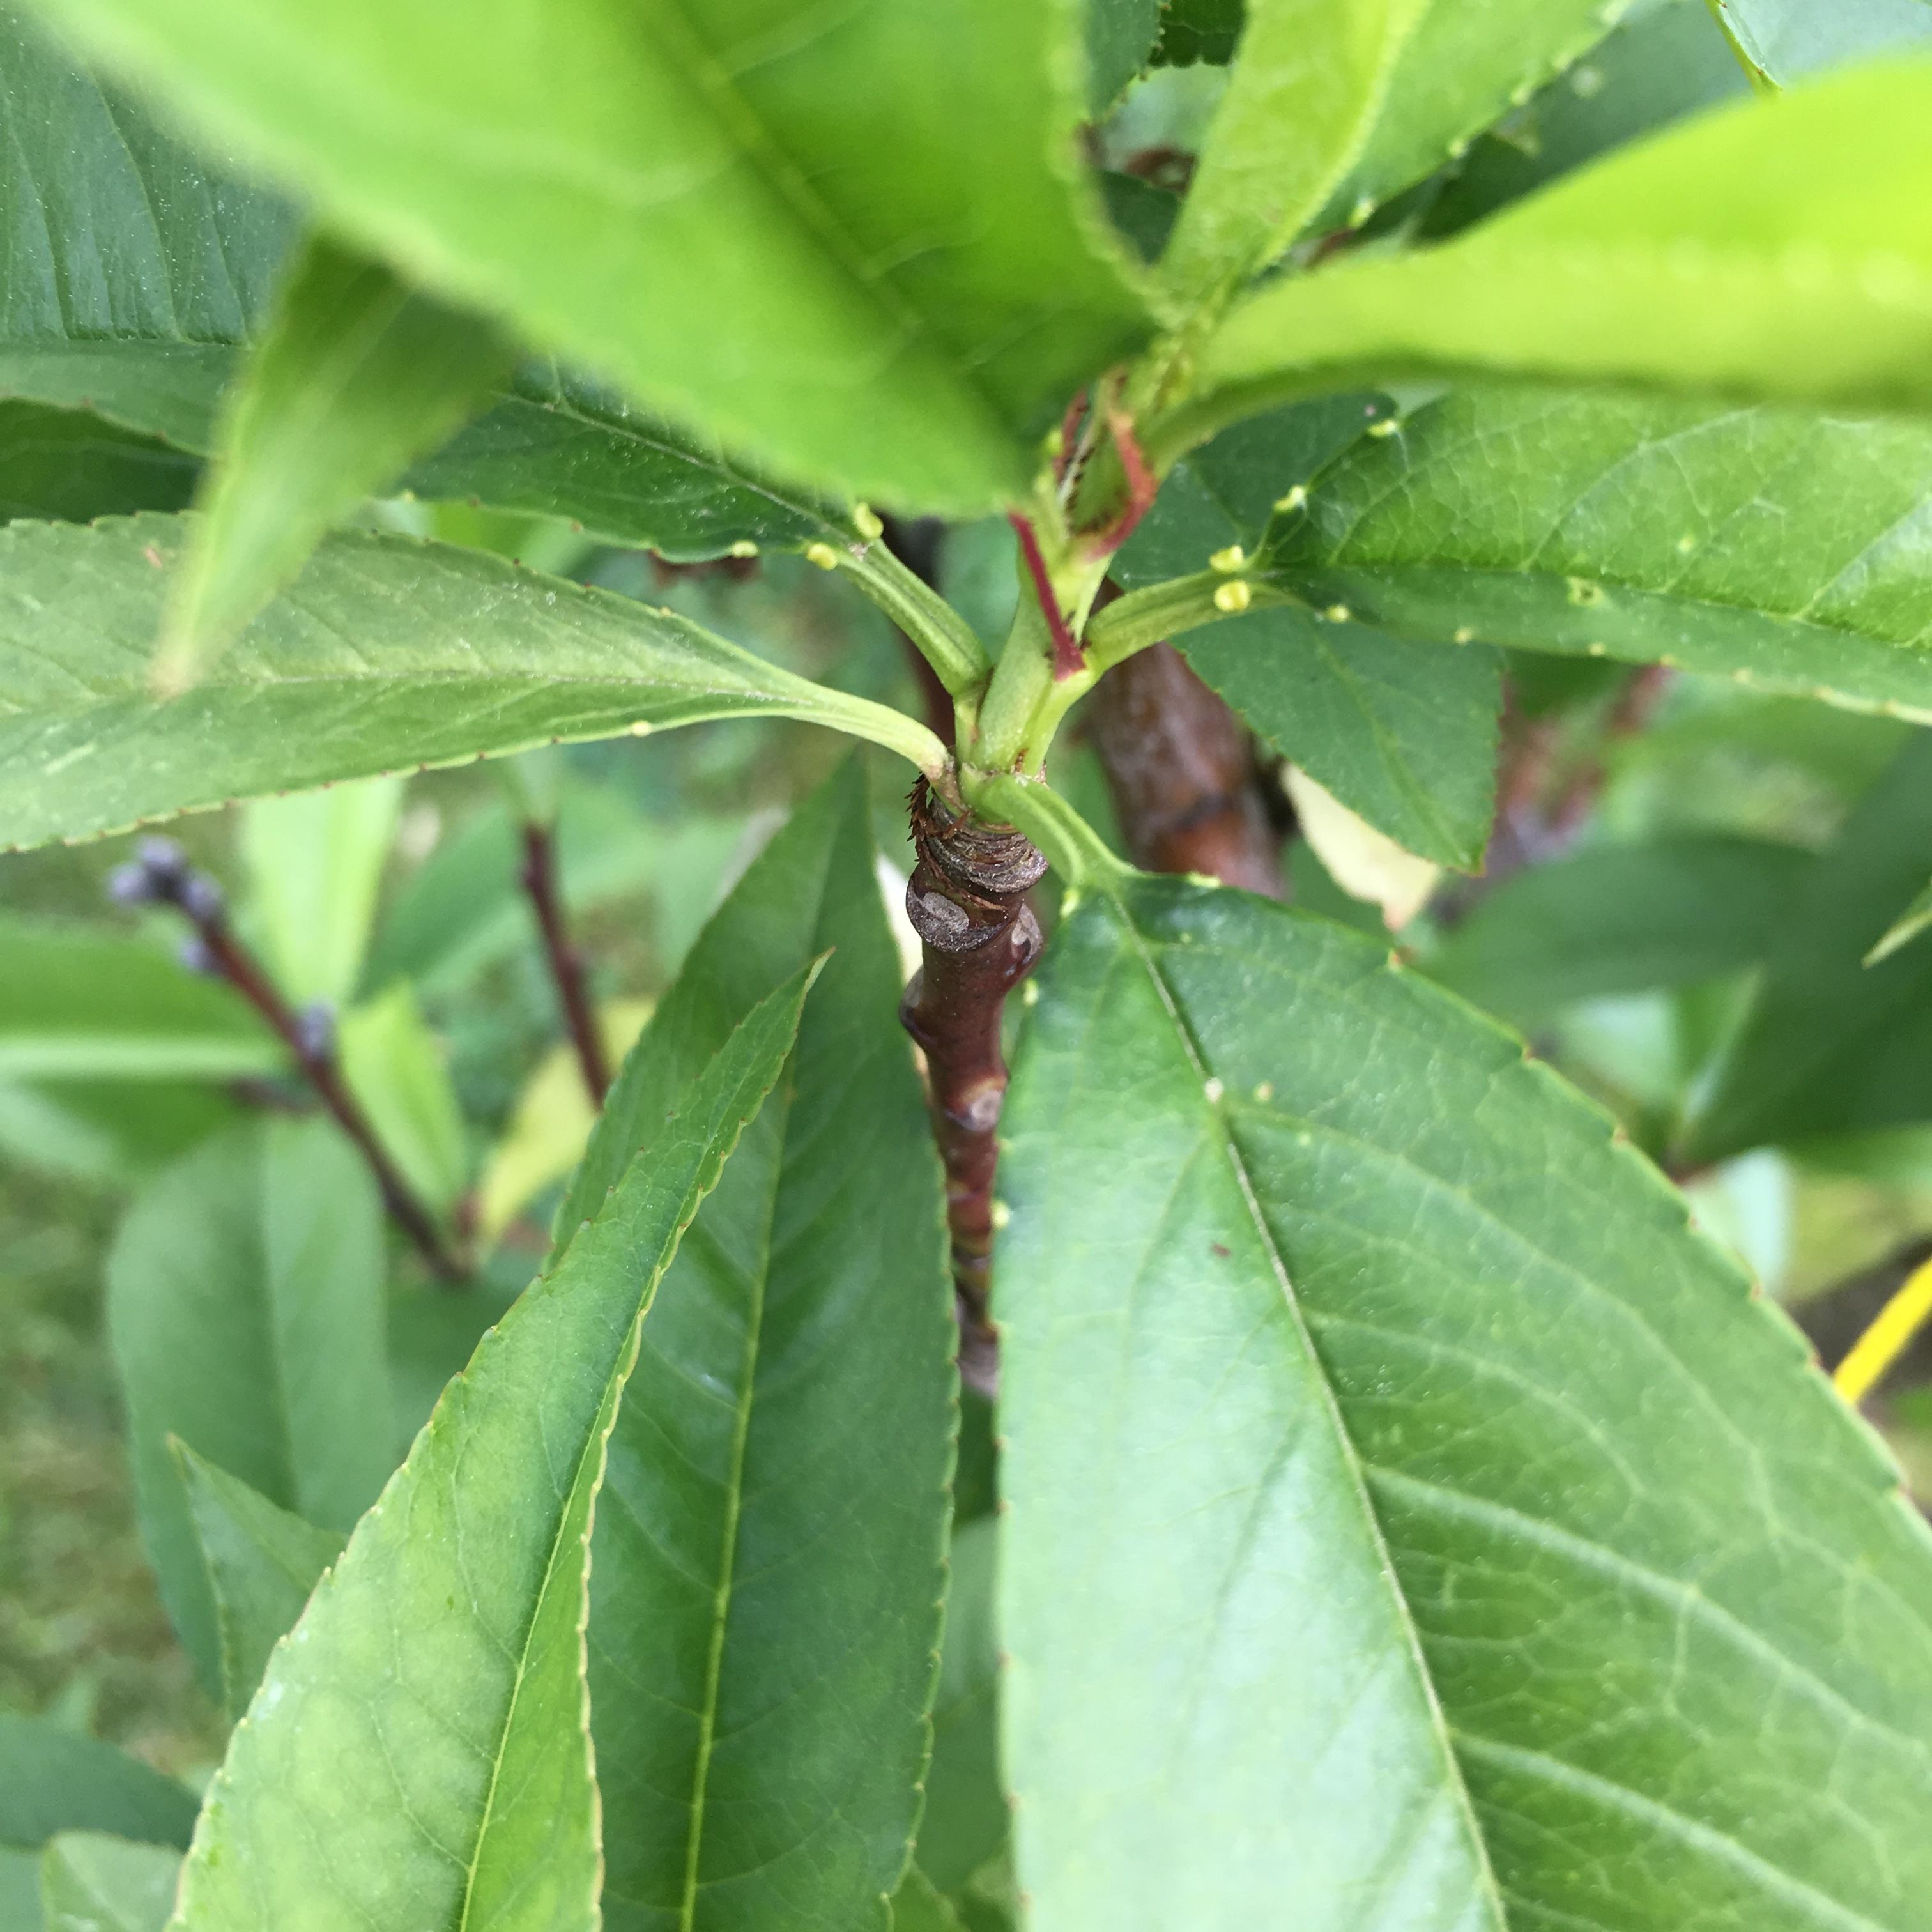Peach leaf: (982, 796, 1932, 1916), (140, 966, 846, 1932), (506, 722, 968, 1932), (0, 502, 897, 865)
